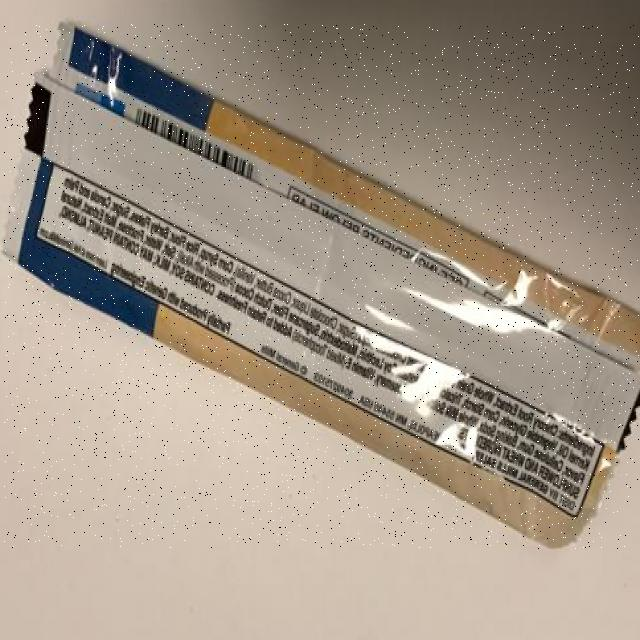wrapper: (3, 24, 640, 548)
